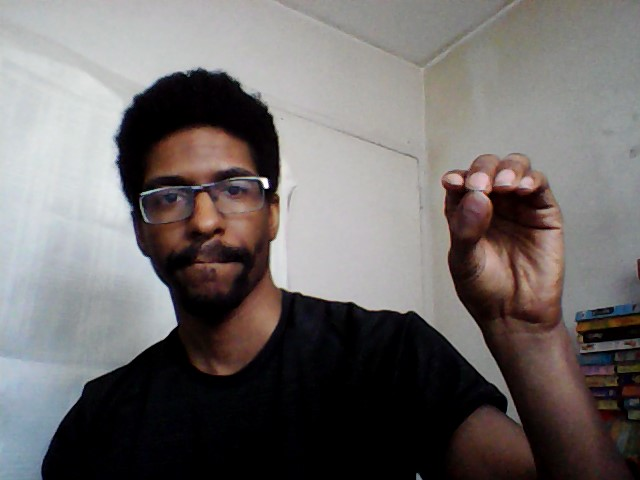o: (434, 146, 569, 321)
